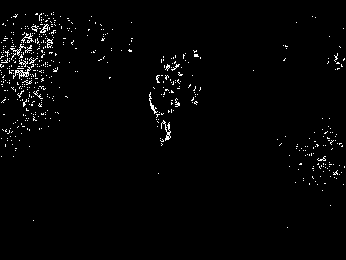person: (149, 72, 180, 146)
